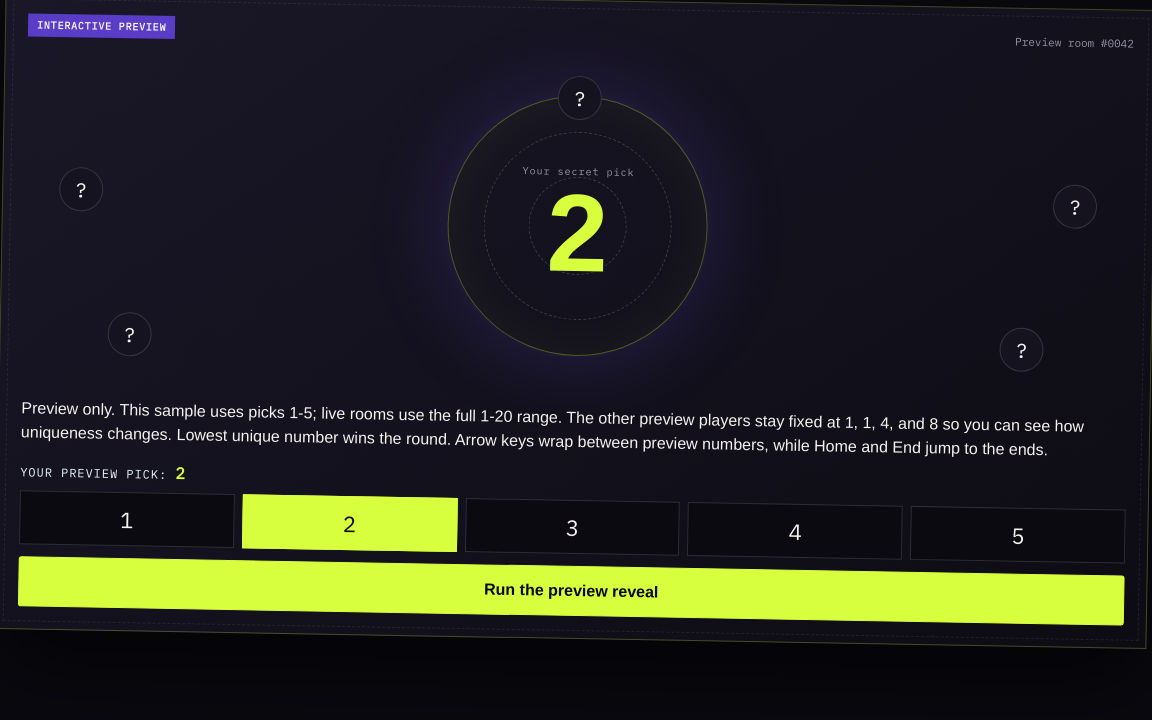
Scenario: LandingDemo › announces preview state changes through a live region
Check: the message shows "Your secret pick", box [522, 164, 635, 178]
Check: the message shows "2", box [546, 170, 609, 294]
Click the radio button named "pick 5 for the preview": click(1018, 535) [910, 506, 1126, 564]
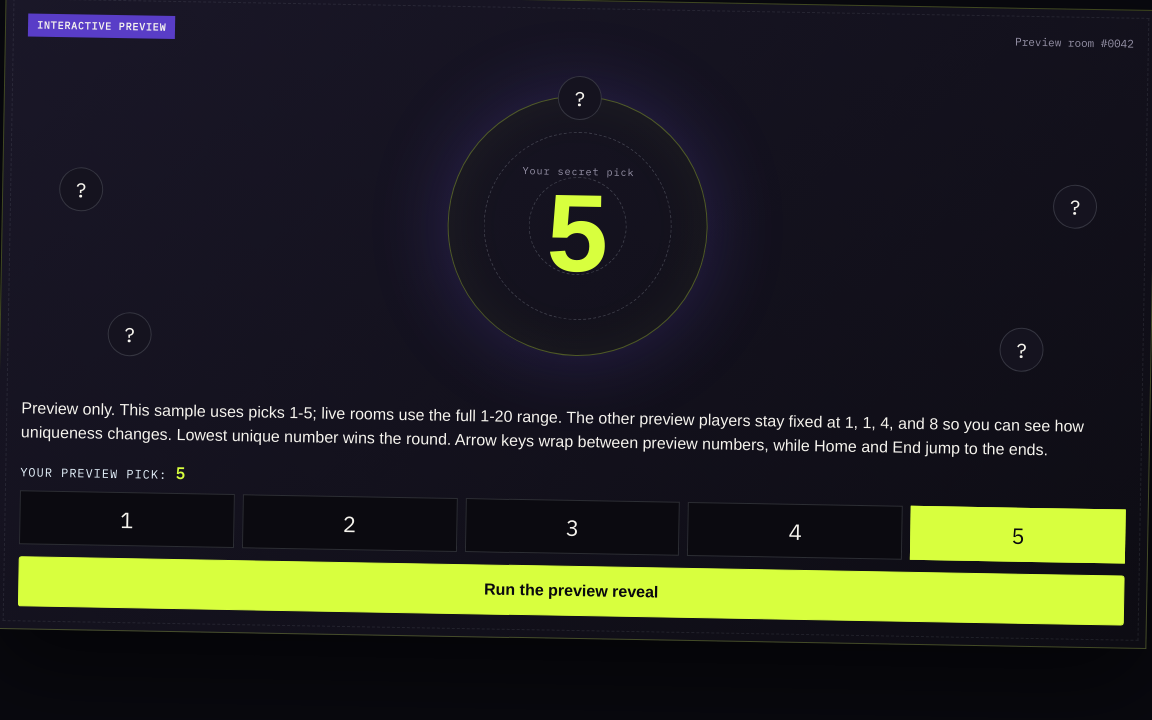
Check: the message shows "Your secret pick", box [522, 164, 635, 178]
Check: the message shows "5", box [546, 170, 609, 294]
Click the button with aria-label "run the preview reveal with pick 5": click(571, 591) [18, 556, 1125, 626]
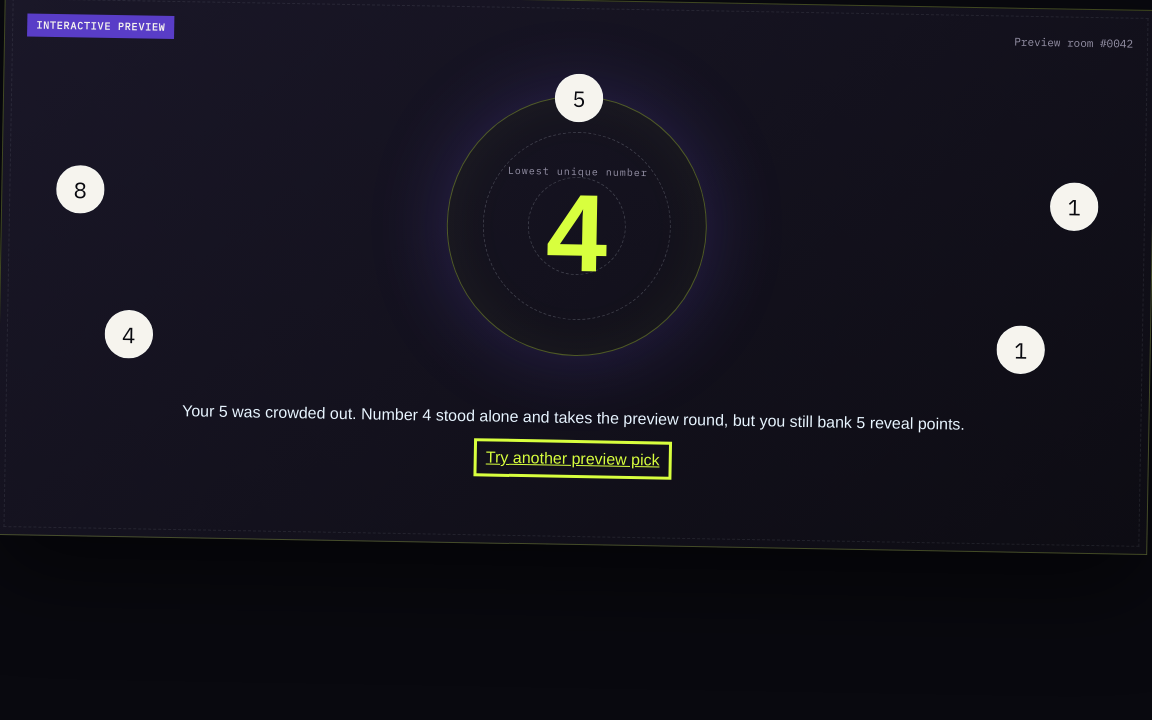
Check: the number of messages is 1, box [506, 163, 648, 289]
Check: the message shows "Lowest unique number", box [508, 163, 648, 179]
Check: the message shows "4", box [545, 170, 608, 294]
